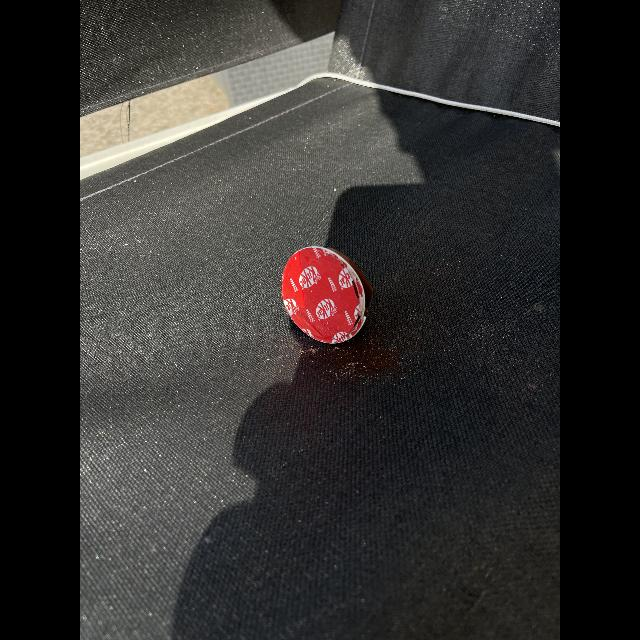damaged_capsule: (278, 237, 374, 359)
